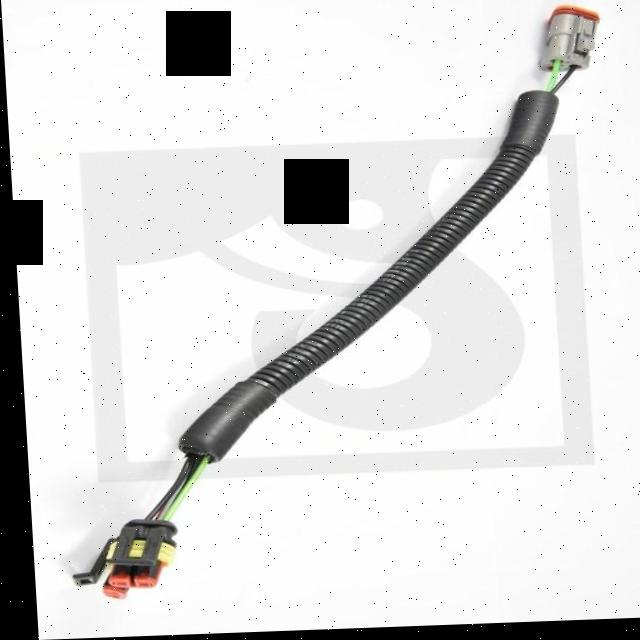cable: (67, 71, 574, 585)
connector: (66, 522, 169, 599), (539, 10, 598, 79)
